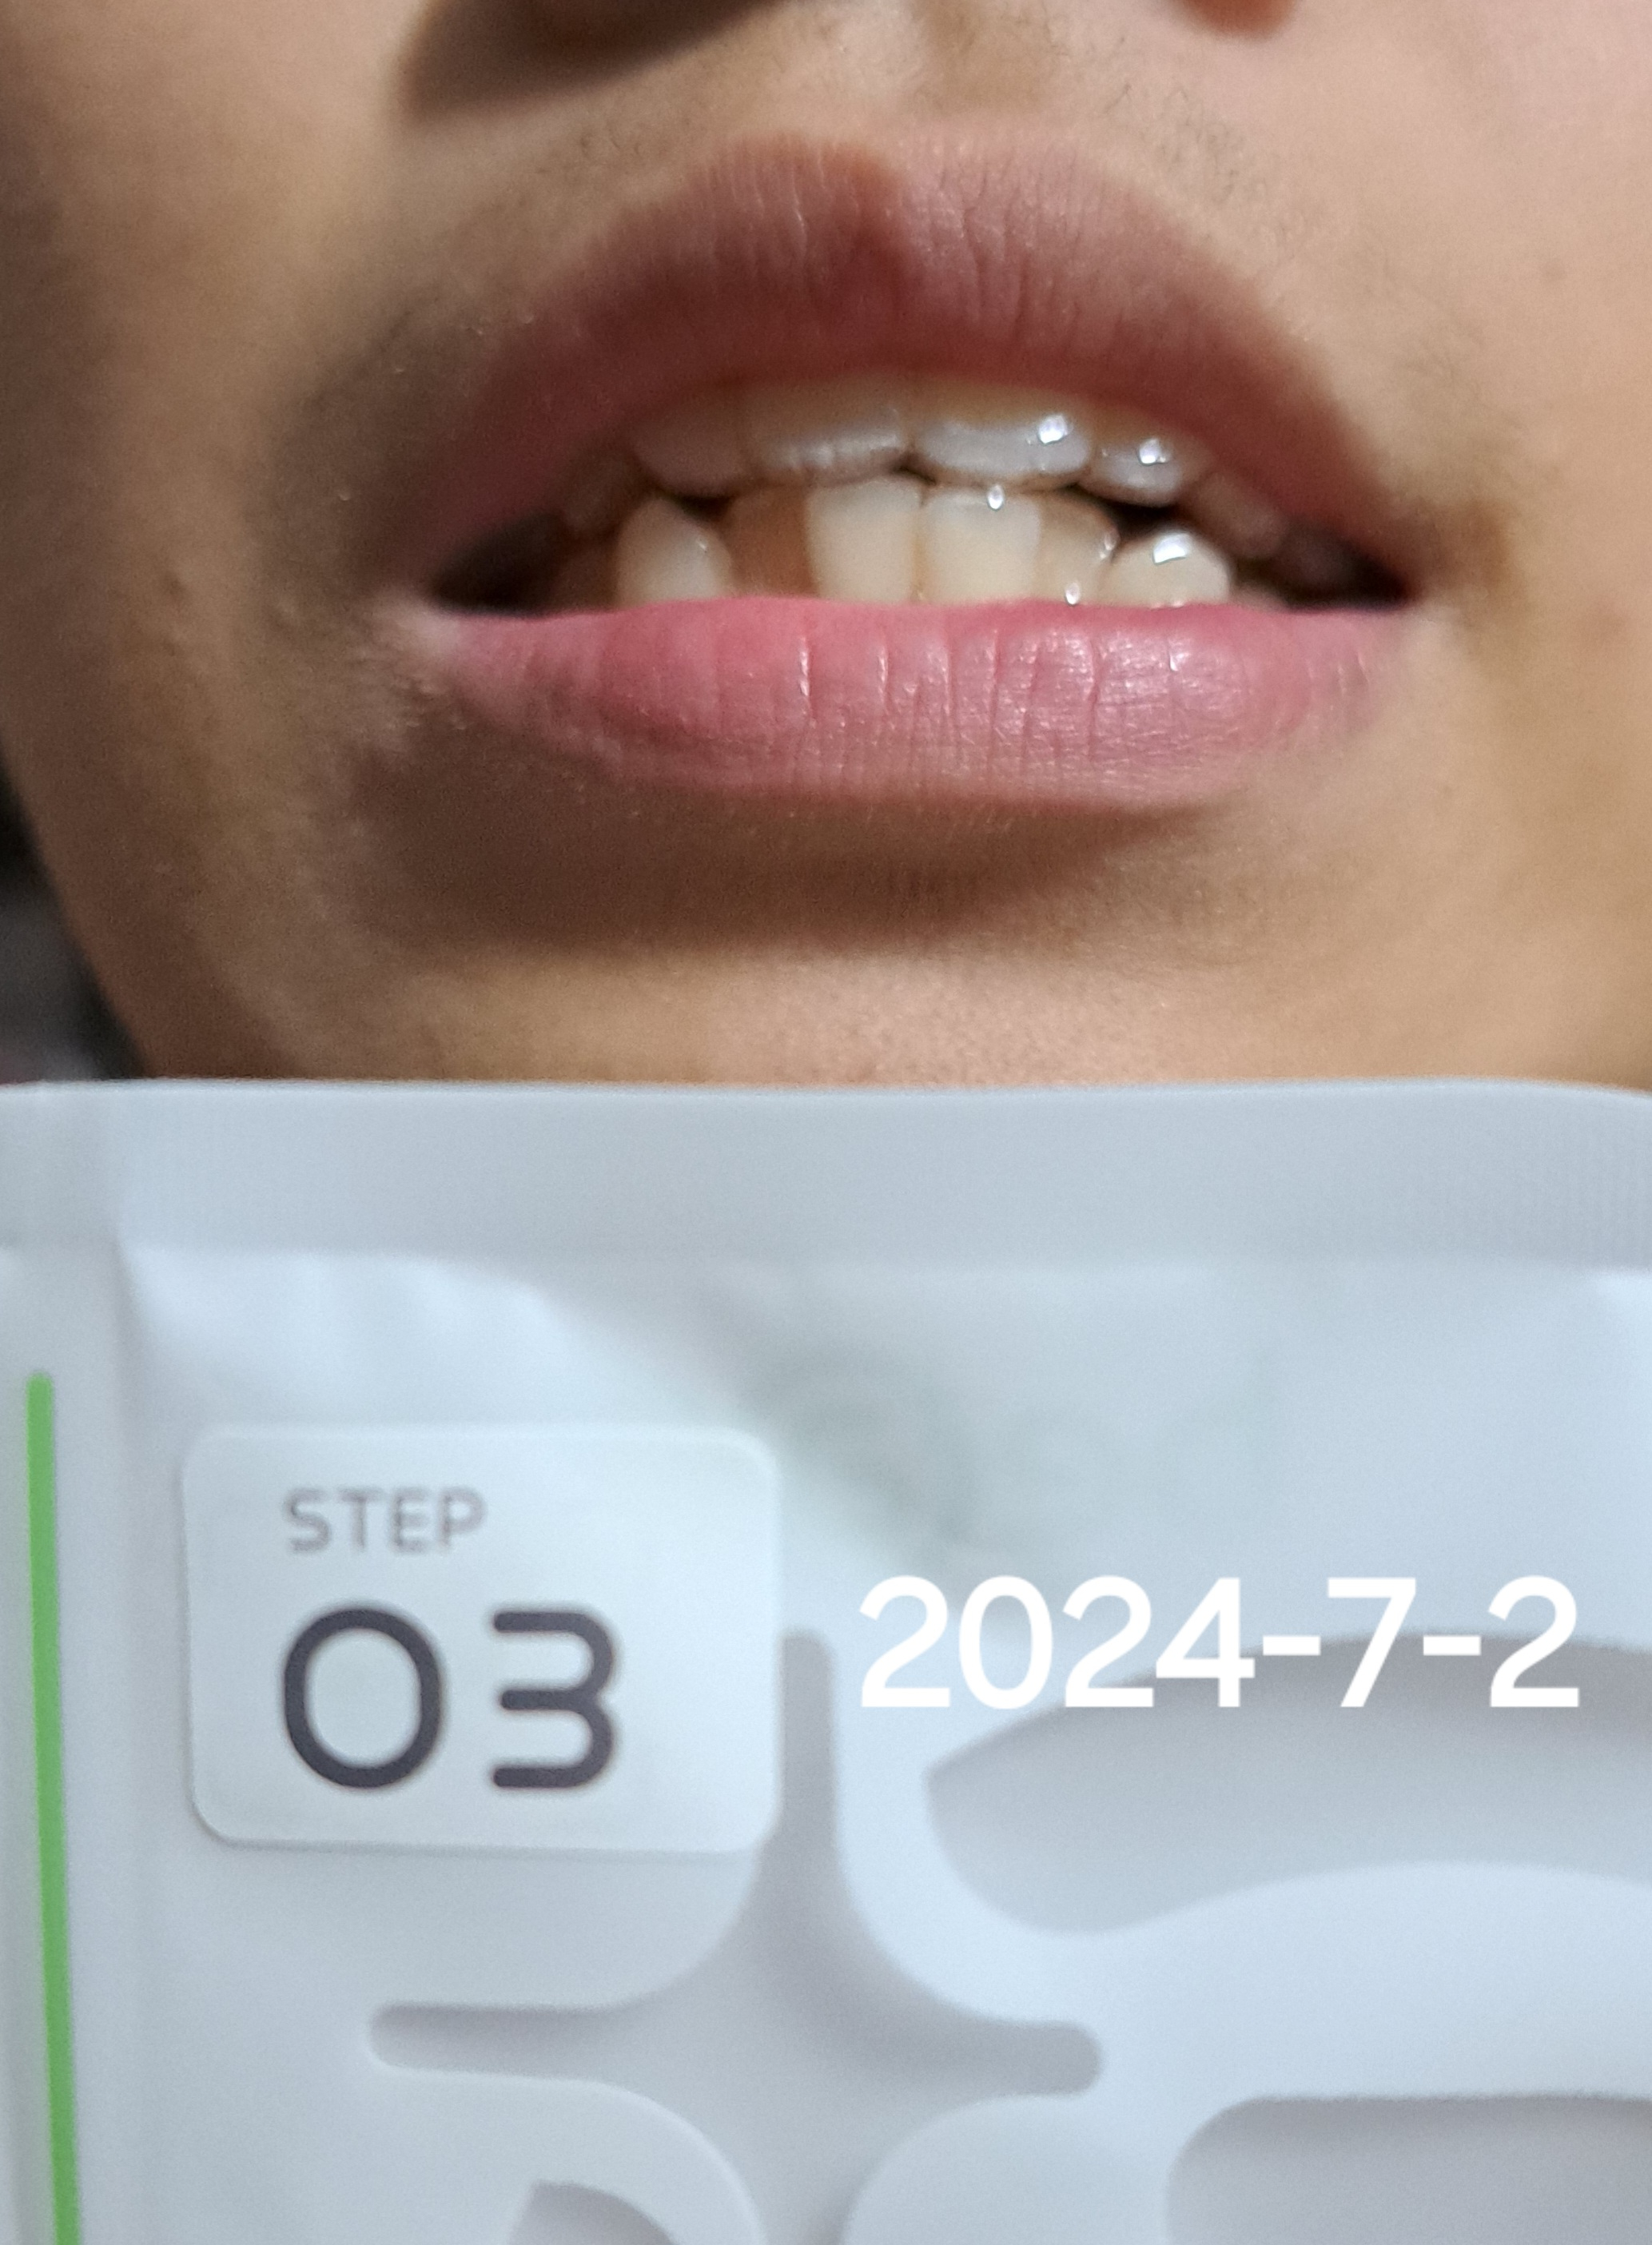teeth: (918, 370, 1086, 469), (746, 368, 903, 472), (809, 483, 917, 601), (626, 385, 746, 481), (918, 502, 1039, 593), (617, 499, 721, 594), (1096, 404, 1206, 492), (1093, 537, 1229, 603), (727, 488, 798, 586), (1033, 507, 1112, 594), (1192, 462, 1274, 537), (561, 444, 626, 530), (551, 542, 613, 601)
